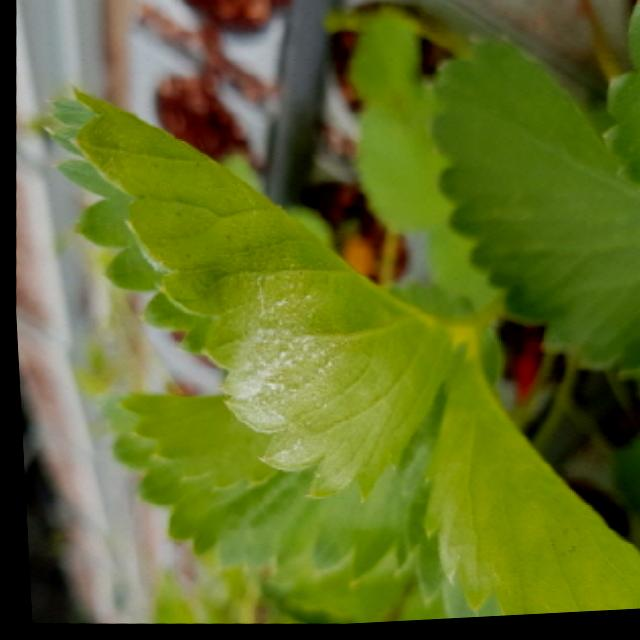Powdery Mildew Leaf: (45, 88, 469, 507)
